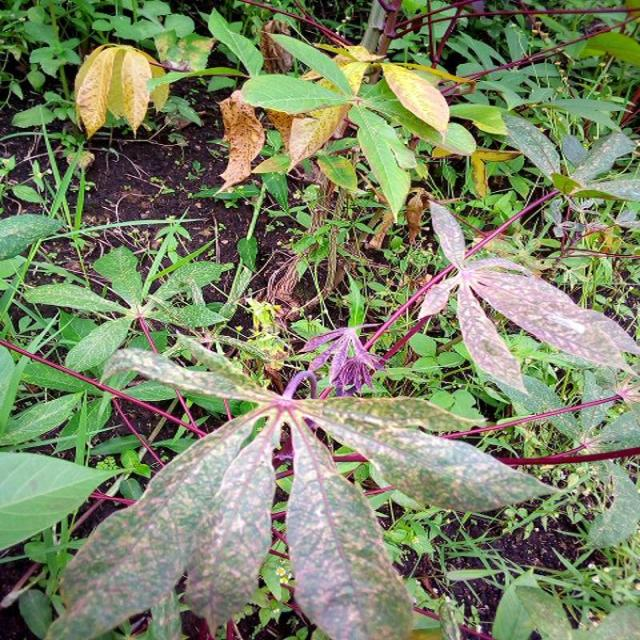cassava leaf: (44, 336, 561, 638), (418, 199, 638, 396), (74, 42, 152, 140)
